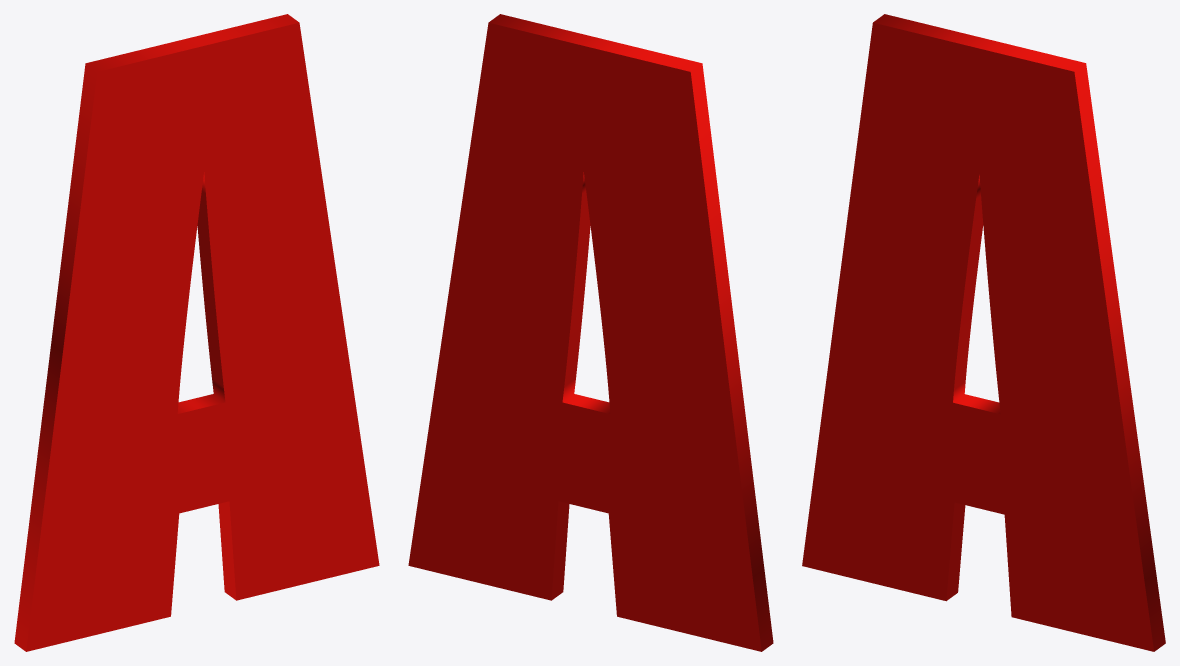
The picture shows the model from 3 angles, left to right: view 1: azimuth 30°, elevation 25°; view 2: azimuth 150°, elevation 25°; view 3: azimuth 330°, elevation 25°; orthographic projection.
Visible parts, largest first — view 1: テキスト; view 2: テキスト; view 3: テキスト.
Part boxes in pixels (x1,y1,x2,y2): テキスト: [14, 14, 379, 651]; テキスト: [408, 14, 773, 651]; テキスト: [802, 14, 1165, 651].
Bounding box in the file's own units: 1.73 × 2.64 × 0.1.
